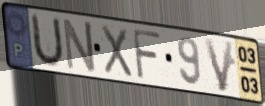9: (176, 36, 202, 87)
F: (131, 27, 163, 82)
N: (61, 16, 97, 75)
U: (30, 11, 66, 69)
V: (202, 37, 236, 95)
X: (99, 22, 134, 79)
